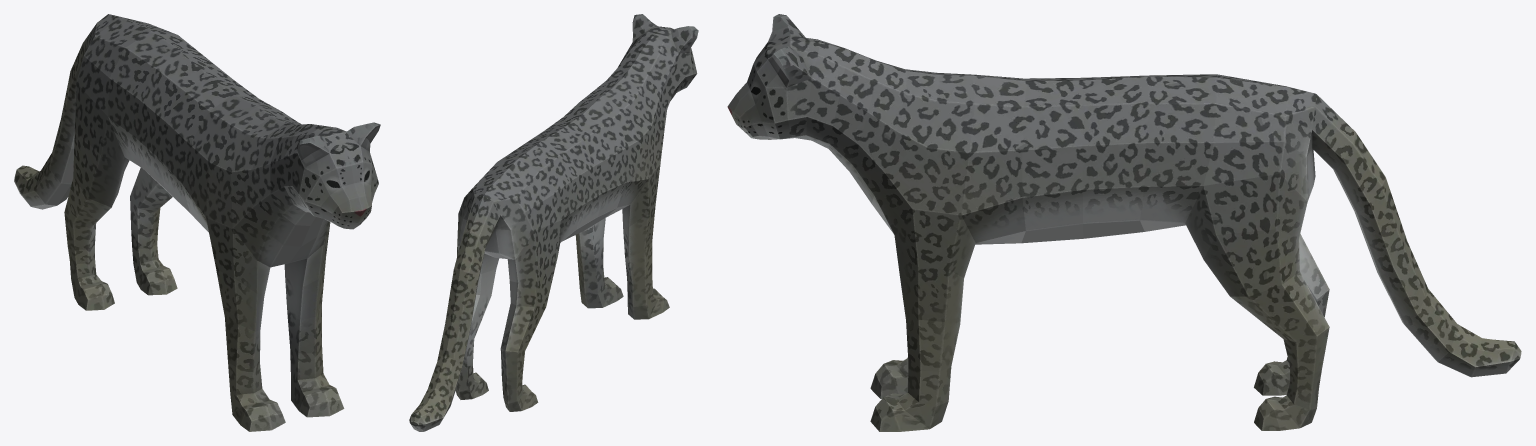
Rendered from snow-leopard.glb.
3 views of the same model, side by side, from view 1: azimuth 30°, elevation 25°; view 2: azimuth 150°, elevation 25°; view 3: azimuth 270°, elevation 25° (orthographic). The views are drawn at different scales.
Visible parts, largest first — view 1: SnowLeopard_mesh; view 2: SnowLeopard_mesh; view 3: SnowLeopard_mesh.
Part boxes in pixels (box(x1,y1,x2,y2)): SnowLeopard_mesh: box(14, 14, 380, 431); SnowLeopard_mesh: box(409, 14, 698, 431); SnowLeopard_mesh: box(727, 14, 1521, 431).
Size of the model in its own units: 1.69 by 4.67 by 9.04.
Materials: 1 (1 with a texture image).
